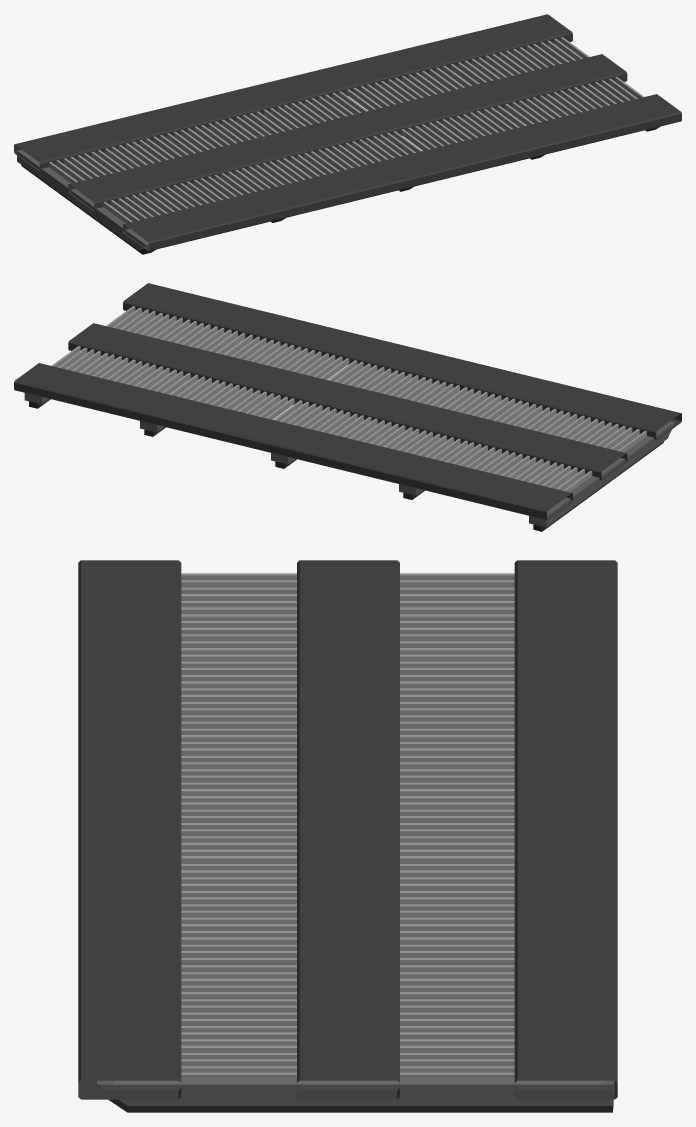
Rendered from office_shelf.FBX.
The picture shows the model from 3 angles, top to bottom: view 1: azimuth 30°, elevation 25°; view 2: azimuth 150°, elevation 25°; view 3: azimuth 270°, elevation 25°; orthographic projection. The views are drawn at different scales.
Visible parts, largest first — view 1: office_shelf; view 2: office_shelf; view 3: office_shelf.
Part boxes in pixels (box(x1,y1,x2,y2)): office_shelf: box(14, 14, 681, 254); office_shelf: box(14, 283, 681, 531); office_shelf: box(78, 560, 617, 1112).
Bounding box in the file's own units: 528 × 21.69 × 231.
